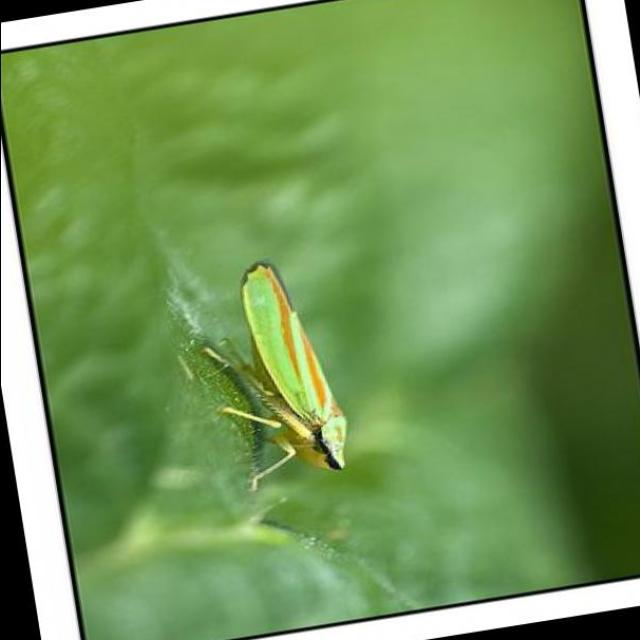green leaf hopper: (204, 264, 345, 488)
